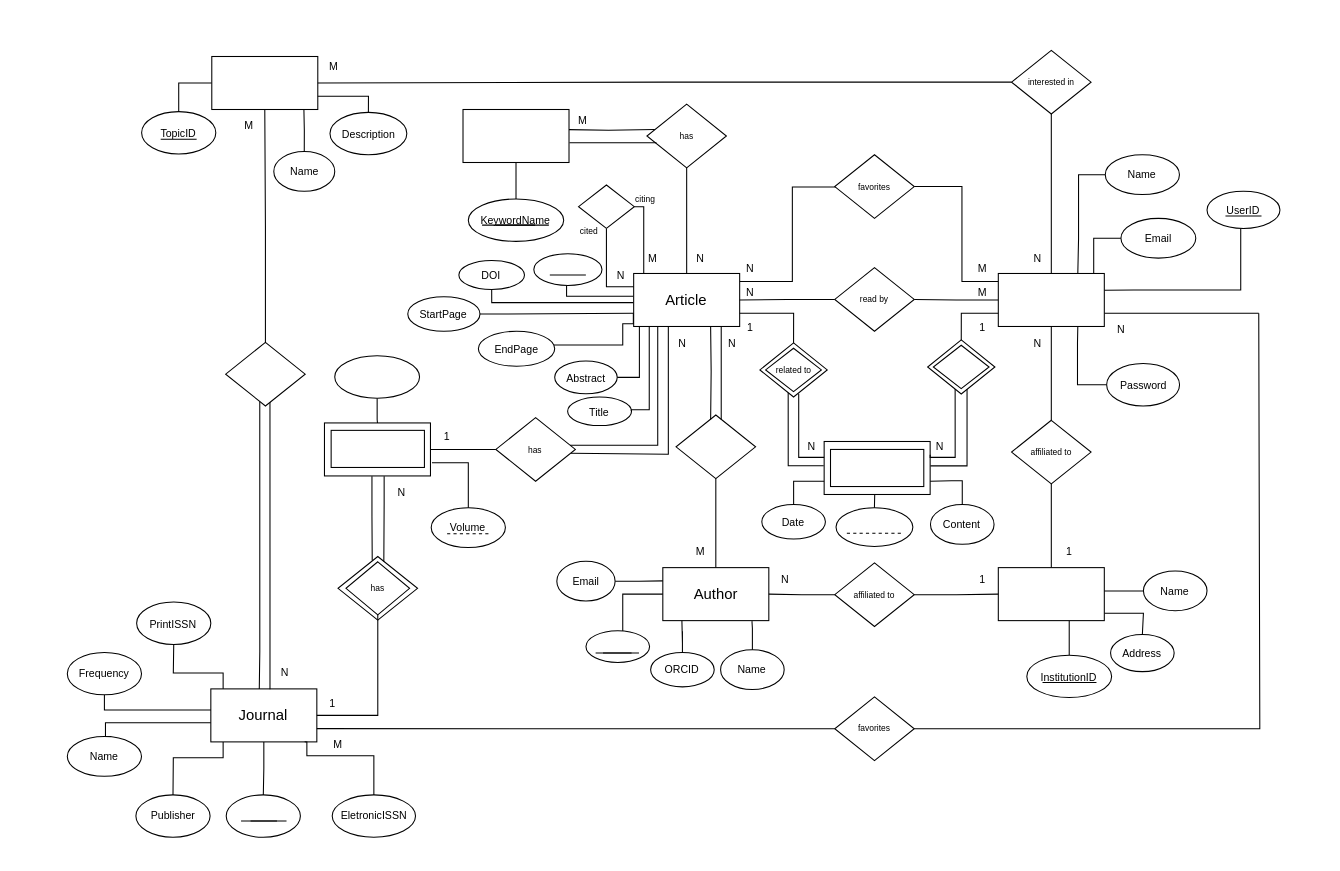
This 1340x871 diagram has some shape labels left out. Here are the shapes that lost their labels. From the top down, the centre of each, then its label:
At pixel 264 82: "Topic".
At pixel 515 135: "Keyword".
At pixel 605 206: "cited by".
At pixel 567 269: "ArticleID".
At pixel 1050 299: "User".
At pixel 265 373: "belongs to".
At pixel 377 376: "PublicationDate".
At pixel 960 366: "makes".
At pixel 377 448: "JournalVolume".
At pixel 715 446: "wrote by".
At pixel 876 467: "Comment".
At pixel 874 526: "CommentID".
At pixel 1050 594: "Institution".
At pixel 617 646: "AuthorID".
At pixel 262 815: "JournalID".
